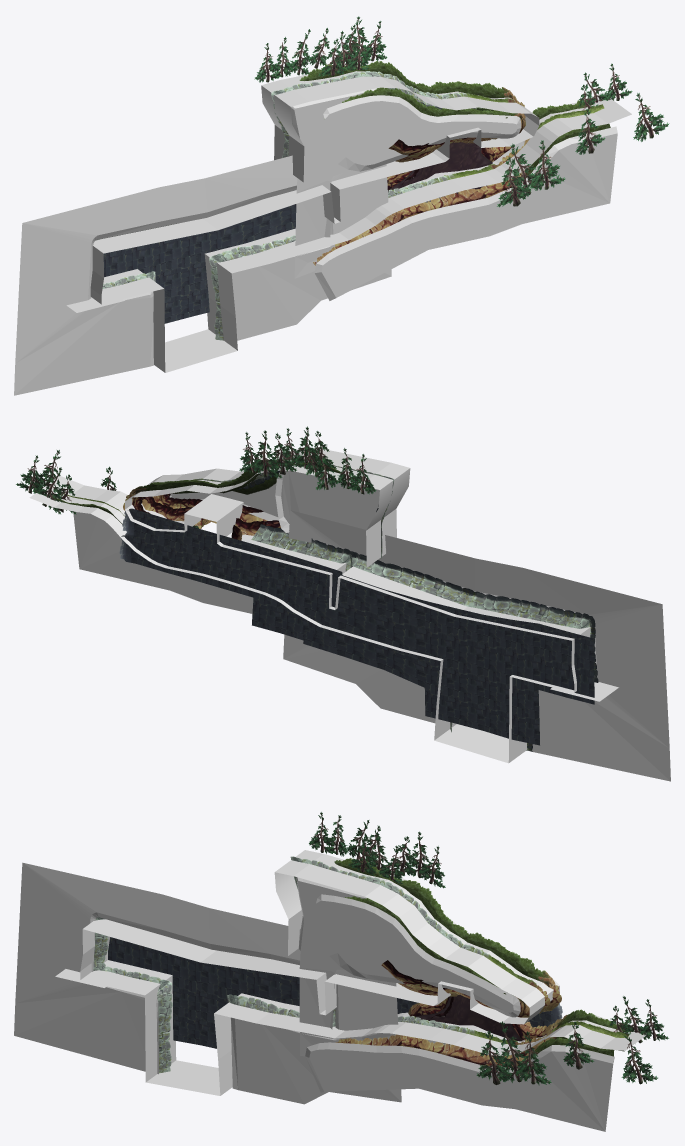
The model's file is LVL10 Ruins Pt3.FBX.
3 renders of one model, top to bottom at view 1: azimuth 30°, elevation 25°; view 2: azimuth 150°, elevation 25°; view 3: azimuth 330°, elevation 25°, orthographic. The views are drawn at different scales.
Parts seen in each view (by area): view 1: LVL 10 Black Middle Room 1, Lvl 10 Col Pt3, LVL 10 Black Pt3_2, LVL 10 Black Pt3_1, LVL 10 Ruins BG Pt3_Room 1, LVL 10 Black Middle Pt3, LVL10_Land Pt3 FG, LVL10 Trees Pt3_FG, LVL10_Land Pt3 BG, LVL10 Trees Pt3_1BG, LVL10_Ruins Pt3_3, LVL 10 Rock BG Pt3 (+4 smaller); view 2: LVL 10 Black Middle Room 1, LVL 10 Ruins BG Pt3_Room 1, Lvl 10 Col Pt3, LVL 10 Ruins BG Pt3, LVL 10 Black Pt3_2, LVL 10 Black Middle Pt3, LVL10_Ruins Pt3_3, LVL10 Trees Pt3_1BG, LVL10_Ruins Pt3_2, LVL10_Land Pt3 BG, LVL 10 Black Pt3_1, LVL10_Land Pt3 (+4 smaller); view 3: LVL 10 Black Middle Room 1, Lvl 10 Col Pt3, LVL 10 Black Pt3_2, LVL 10 Black Pt3_1, LVL 10 Ruins BG Pt3_Room 1, LVL10_Land Pt3 BG, LVL 10 Black Middle Pt3, LVL10_Land Pt3 FG, LVL10 Trees Pt3_FG, LVL10_Ruins Pt3_3, LVL10 Trees Pt3_1BG, LVL 10 Rock BG Pt3 (+6 smaller).
Part boxes in pixels (box(x1,y1,x2,y2)): LVL 10 Black Middle Room 1: box(14, 155, 391, 395); Lvl 10 Col Pt3: box(66, 71, 631, 372); LVL 10 Black Pt3_2: box(314, 126, 617, 300); LVL 10 Black Pt3_1: box(323, 95, 521, 171); LVL 10 Ruins BG Pt3_Room 1: box(103, 204, 296, 323); LVL 10 Black Middle Pt3: box(290, 87, 445, 278); LVL10_Land Pt3 FG: box(313, 87, 610, 265); LVL10 Trees Pt3_FG: box(497, 93, 669, 207); LVL10_Land Pt3 BG: box(299, 61, 593, 189); LVL10 Trees Pt3_1BG: box(254, 16, 387, 82); LVL10_Ruins Pt3_3: box(96, 223, 295, 340); LVL 10 Rock BG Pt3: box(388, 142, 492, 193); LVL 10 Black Middle Room 1: box(283, 510, 670, 781); LVL 10 Ruins BG Pt3_Room 1: box(303, 570, 594, 745); Lvl 10 Col Pt3: box(29, 448, 618, 763); LVL 10 Ruins BG Pt3: box(119, 508, 342, 647); LVL 10 Black Pt3_2: box(73, 511, 252, 613); LVL 10 Black Middle Pt3: box(222, 470, 386, 608); LVL10_Ruins Pt3_3: box(350, 552, 598, 751); LVL10 Trees Pt3_1BG: box(239, 430, 376, 494); LVL10_Ruins Pt3_2: box(251, 523, 355, 571); LVL10_Land Pt3 BG: box(52, 459, 360, 540); LVL 10 Black Pt3_1: box(169, 483, 278, 520); LVL10_Land Pt3: box(64, 493, 280, 535); LVL 10 Black Middle Room 1: box(14, 862, 401, 1104); Lvl 10 Col Pt3: box(55, 850, 654, 1095); LVL 10 Black Pt3_2: box(305, 1042, 614, 1131); LVL 10 Black Pt3_1: box(316, 894, 520, 1017); LVL 10 Ruins BG Pt3_Room 1: box(108, 937, 299, 1048); LVL10_Land Pt3 BG: box(334, 858, 633, 1040); LVL 10 Black Middle Pt3: box(296, 877, 449, 1056); LVL10_Land Pt3 FG: box(335, 896, 614, 1066); LVL10 Trees Pt3_FG: box(476, 1021, 657, 1085); LVL10_Ruins Pt3_3: box(93, 917, 335, 1073); LVL10 Trees Pt3_1BG: box(309, 812, 445, 888); LVL 10 Rock BG Pt3: box(415, 994, 522, 1055).
Size of the model in its own units: 11940 by 1411 by 4933.
